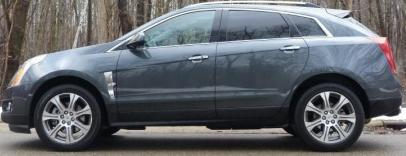backlight: (373, 34, 401, 78)
headlight: (6, 51, 47, 92)
side_glass: (134, 10, 334, 51)
